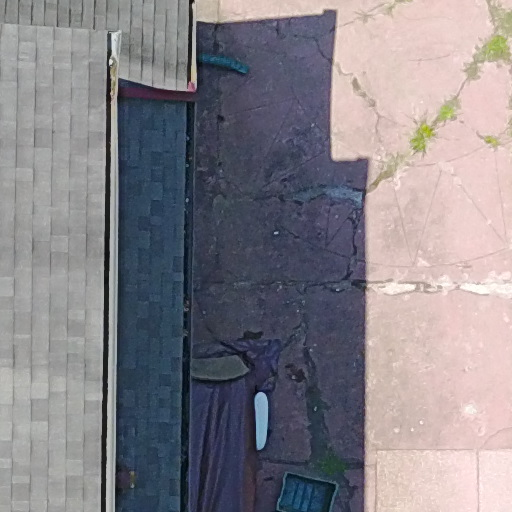gutter: (173, 42, 267, 87)
recycling bin: (260, 456, 345, 512)
tarp: (185, 344, 271, 512)
